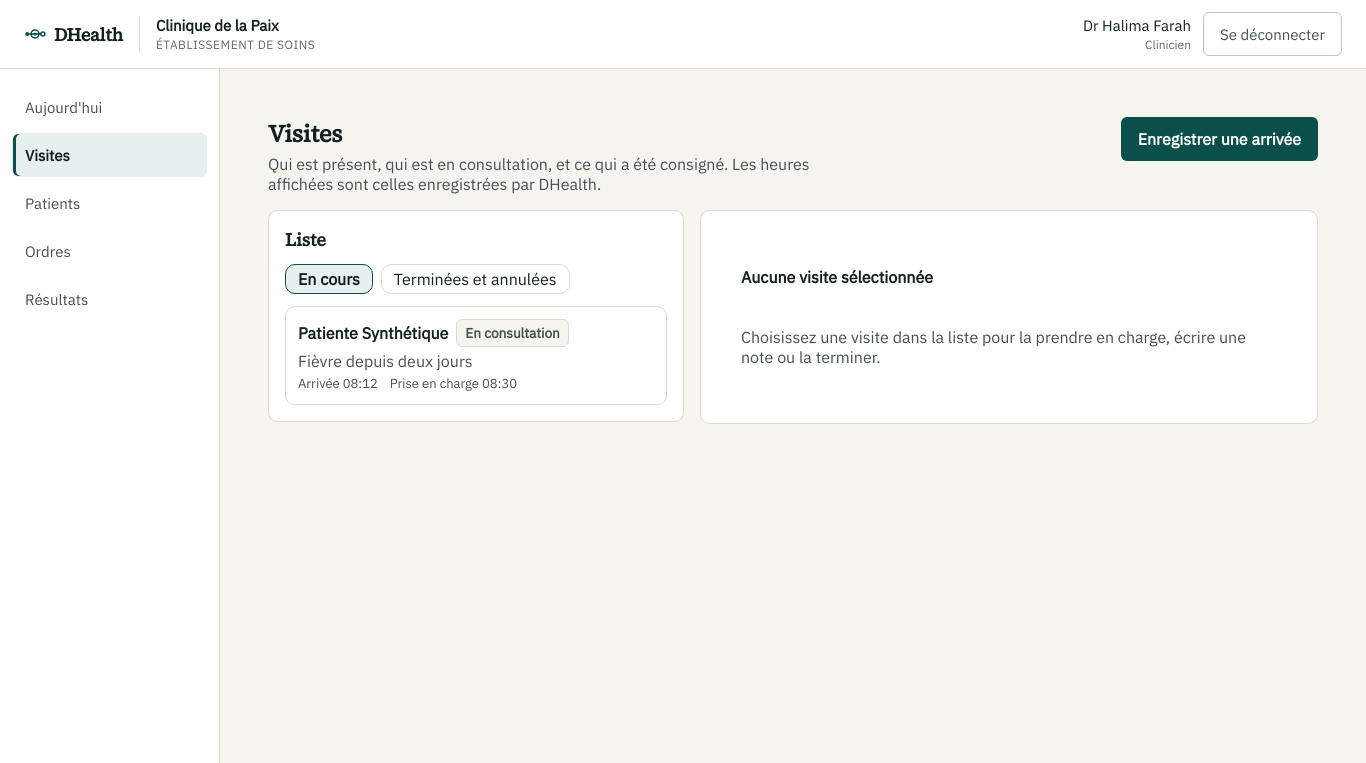
Test: Visites — the clinical note › keeps every revision on screen and marks which one is current
The width and height of the screenshot is (1366, 763).
Click the button "Patiente Synthétique" at (373, 333), box [285, 306, 667, 405]
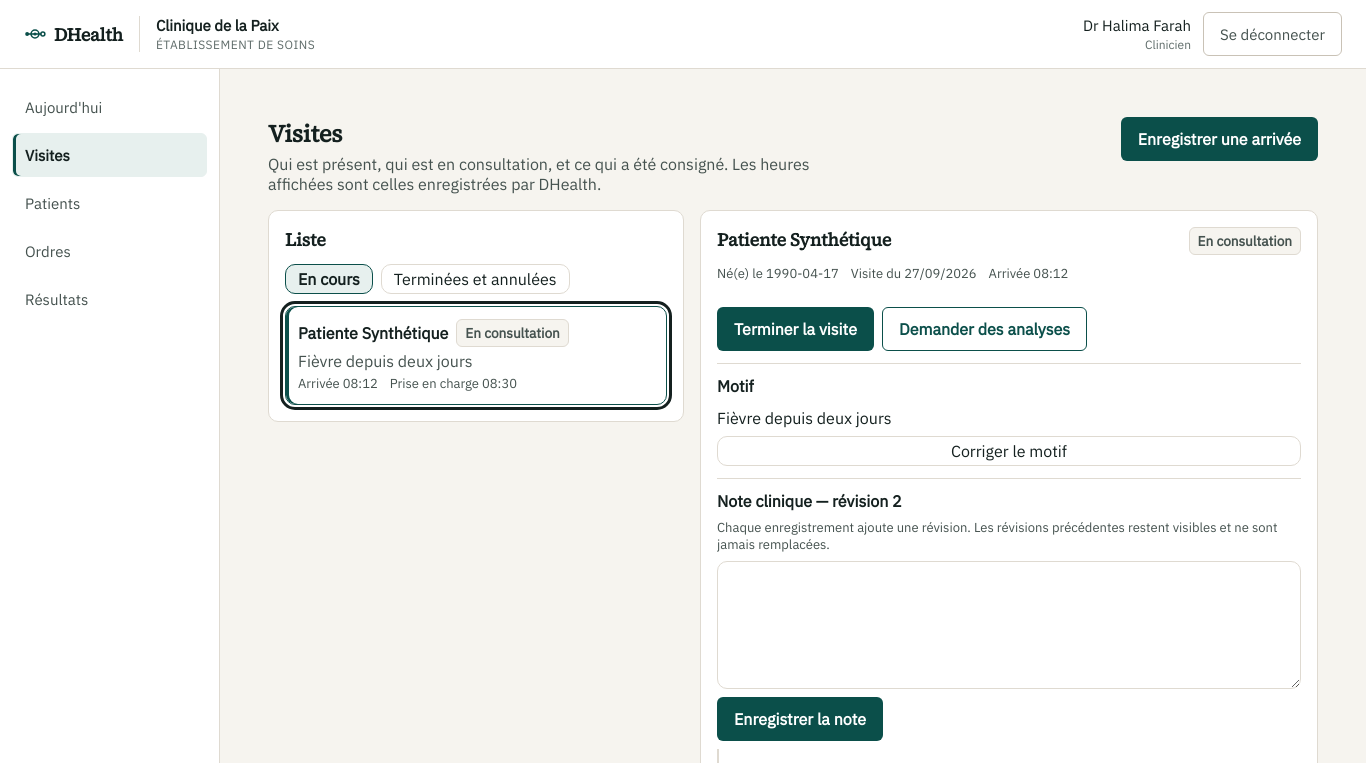
Expected: the heading "Note clinique — révision 2" is shown, [717, 491, 902, 511]
